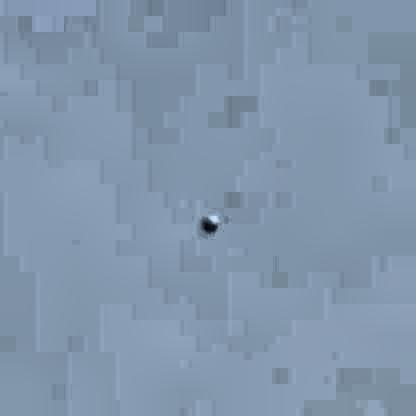golfball: (199, 212, 215, 230)
